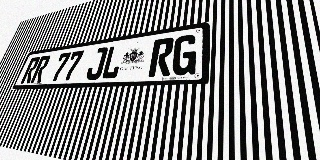7: (61, 50, 84, 82), (49, 52, 71, 82)
G: (171, 34, 198, 76)
J: (85, 47, 109, 80)
L: (100, 44, 125, 79)
R: (148, 37, 175, 77), (30, 55, 51, 83), (20, 57, 41, 84)
